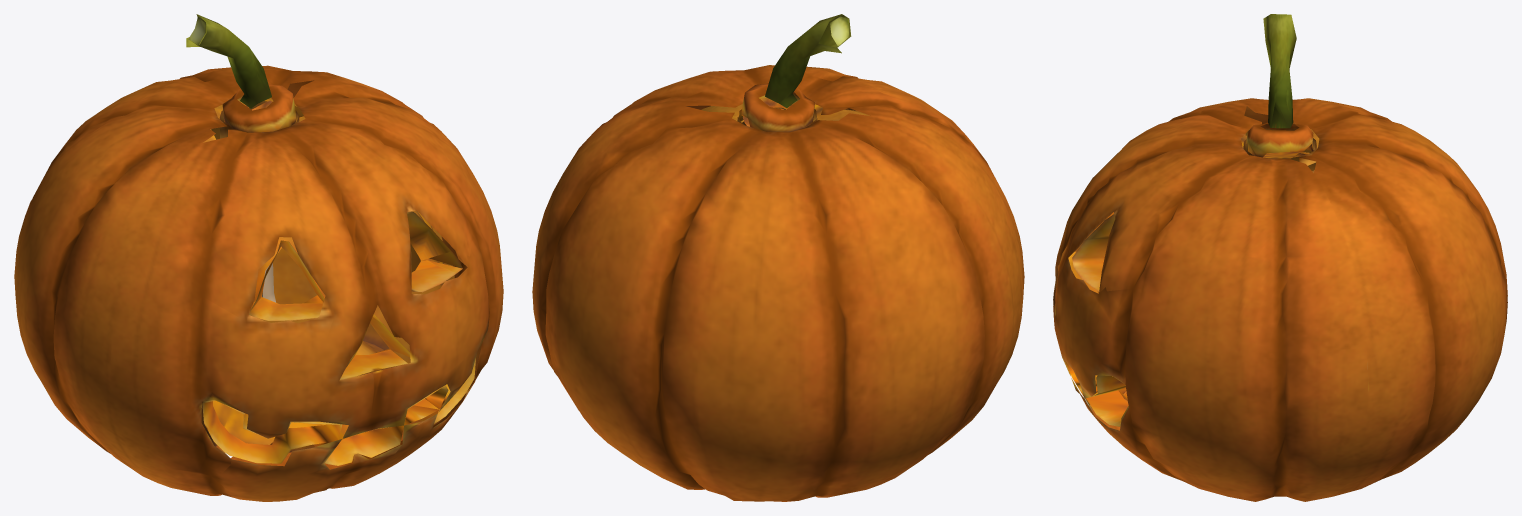
The model's file is abobora.glb.
3 renders of one model, left to right at view 1: azimuth 30°, elevation 25°; view 2: azimuth 150°, elevation 25°; view 3: azimuth 270°, elevation 25°, orthographic. The views are drawn at different scales.
Parts seen in each view (by area): view 1: m; view 2: m; view 3: m.
Boxes of the visible parts, left/top/right/bottom form: m: left=14, top=14, right=503, bottom=501; m: left=532, top=14, right=1024, bottom=501; m: left=1053, top=14, right=1507, bottom=501.
Bounding box in the file's own units: 2.09 × 2.14 × 2.1.
Materials: 1 (1 with a texture image).
